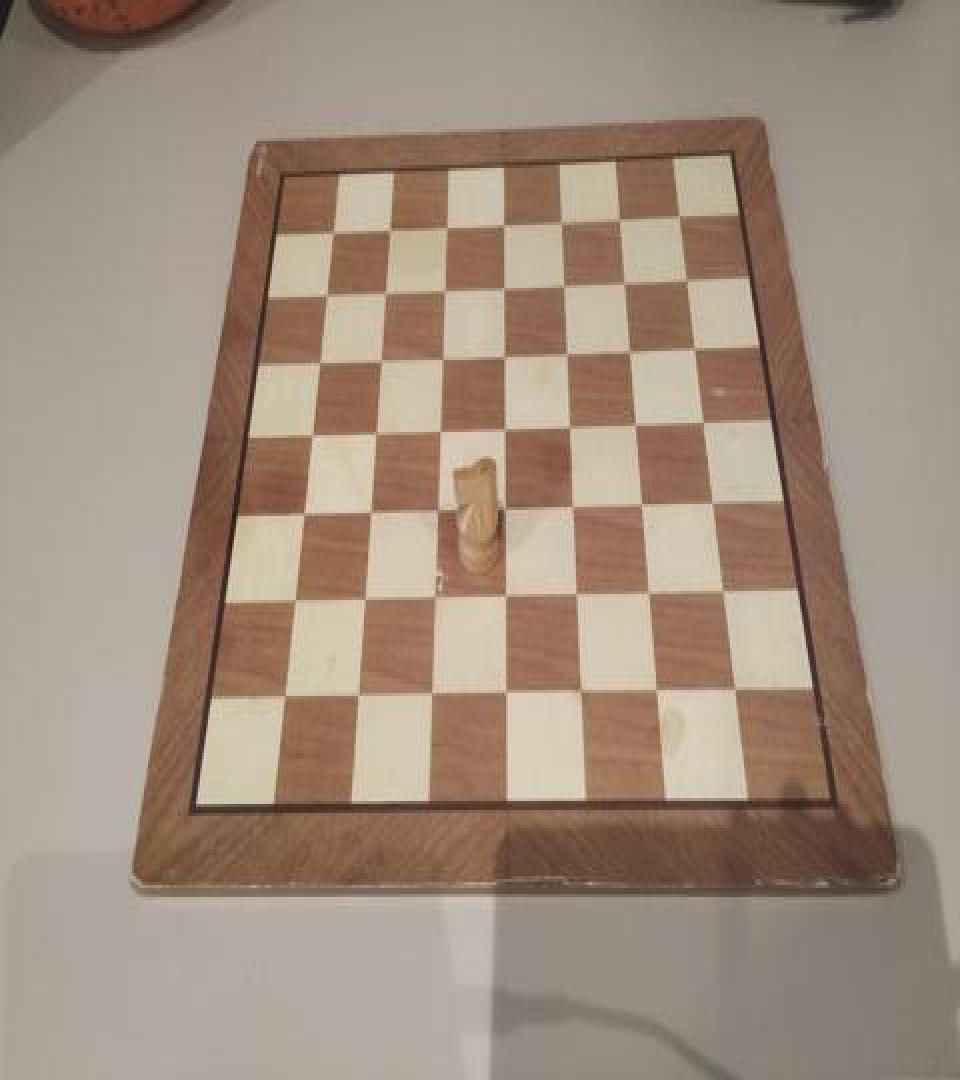xcorner: (427, 499, 447, 530), (670, 199, 690, 230), (347, 687, 367, 717), (421, 686, 441, 716), (572, 681, 592, 711), (648, 680, 668, 710), (726, 678, 746, 708), (284, 591, 304, 621), (354, 590, 374, 620), (425, 588, 445, 618), (496, 585, 516, 615), (568, 584, 588, 614), (641, 582, 661, 612), (714, 579, 734, 609), (293, 504, 313, 534), (360, 501, 380, 531), (495, 496, 515, 526), (564, 495, 584, 525), (633, 492, 653, 522), (703, 489, 723, 519), (302, 423, 322, 453), (365, 420, 385, 450), (430, 418, 450, 448), (495, 416, 515, 446), (561, 412, 581, 442), (627, 411, 647, 441), (694, 408, 714, 438), (309, 350, 329, 380), (371, 346, 391, 376), (432, 344, 452, 374), (495, 340, 515, 370), (558, 339, 578, 369), (621, 336, 641, 366), (685, 333, 705, 363), (316, 282, 336, 312), (375, 279, 395, 309), (435, 276, 455, 306), (494, 273, 514, 303), (555, 270, 575, 300), (616, 267, 636, 297), (677, 264, 697, 294), (323, 219, 343, 249), (379, 216, 399, 246), (437, 213, 457, 243), (494, 210, 514, 240), (552, 207, 572, 237), (611, 204, 631, 234), (274, 689, 294, 718), (496, 683, 516, 712)
